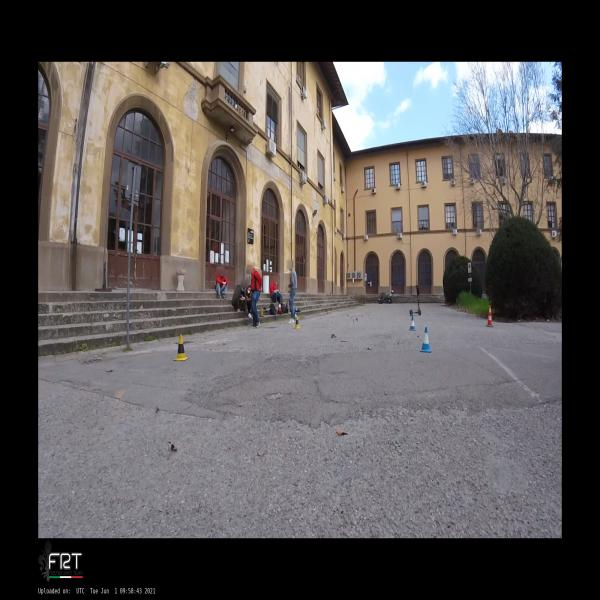blue_cone: (420, 327, 431, 353), (408, 316, 416, 331)
large_orange_cone: (485, 306, 494, 327)
orange_cone: (278, 301, 282, 314)
unknown_cone: (259, 306, 264, 317)
yellow_cone: (173, 334, 189, 361), (293, 316, 301, 330)
